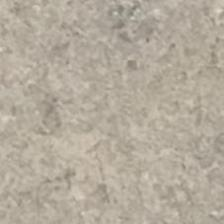Non_Crack: (6, 3, 220, 224)
